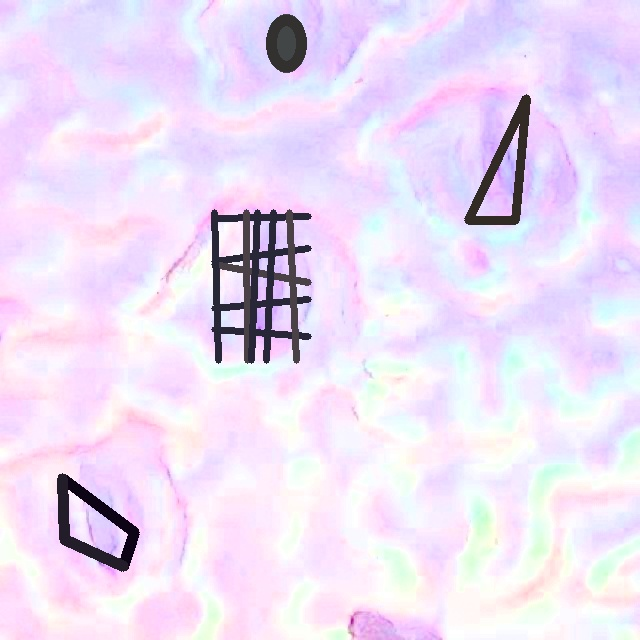close: (265, 14, 307, 72)
open: (211, 210, 311, 363), (464, 96, 529, 224), (60, 473, 138, 571)
